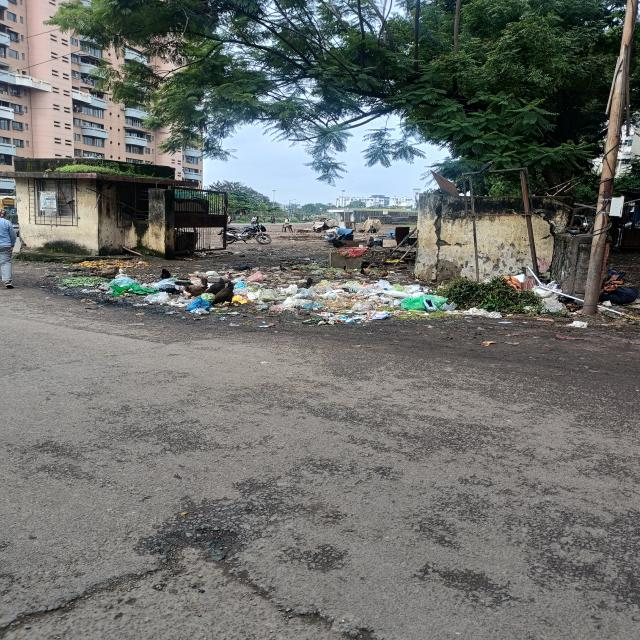garbage: (109, 274, 453, 318), (322, 248, 392, 277), (66, 268, 115, 294)
